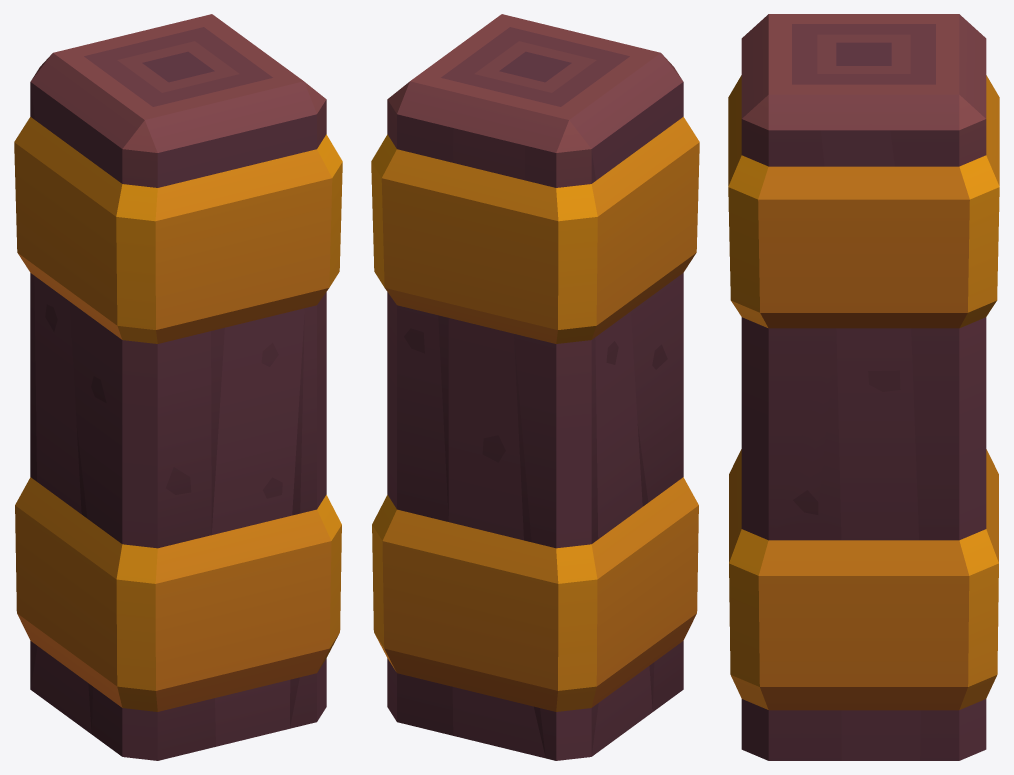
The model's file is pillar_1.glb.
The picture shows the model from 3 angles, left to right: view 1: azimuth 30°, elevation 25°; view 2: azimuth 150°, elevation 25°; view 3: azimuth 270°, elevation 25°; orthographic projection. The views are drawn at different scales.
Visible parts, largest first — view 1: pillar_1; view 2: pillar_1; view 3: pillar_1.
Boxes of the visible parts, <box> form: pillar_1: <box>14,14,342,760</box>; pillar_1: <box>371,14,699,760</box>; pillar_1: <box>728,14,999,760</box>.
Bounding box in the file's own units: 0.7755 × 2.06 × 0.7755.
Materials: 1 (1 with a texture image).
